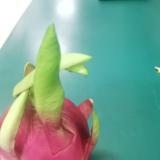pitaya: (1, 52, 99, 160)
